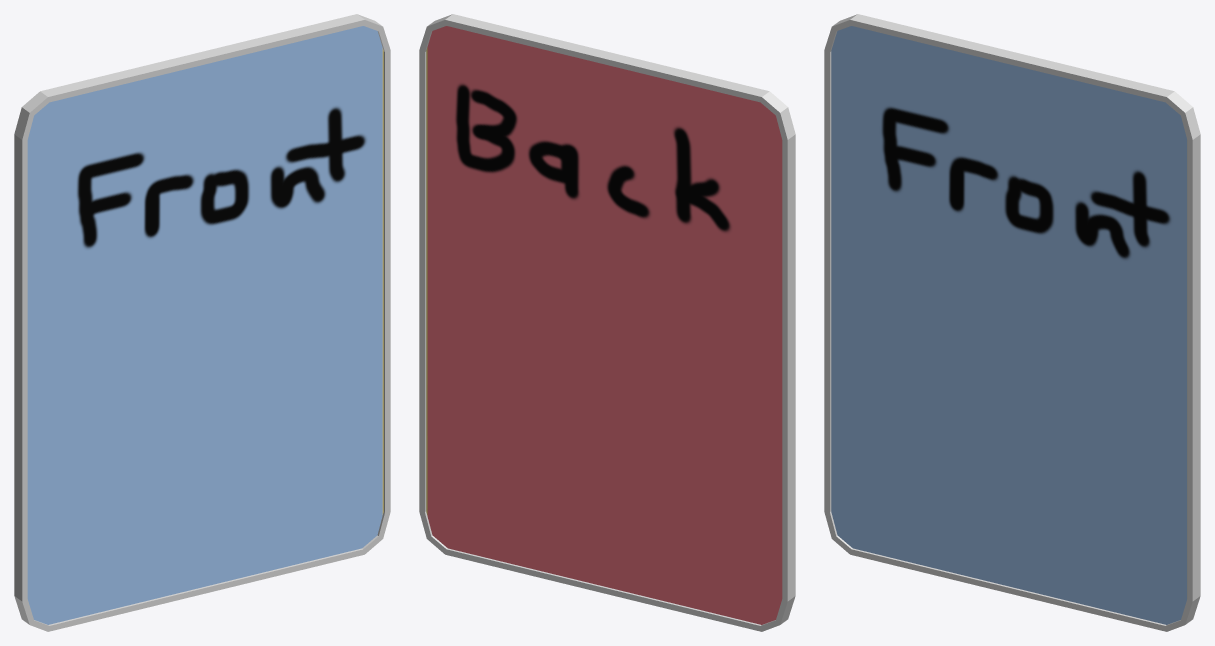
Rendered from card.glb.
3 renders of one model, left to right at view 1: azimuth 30°, elevation 25°; view 2: azimuth 150°, elevation 25°; view 3: azimuth 330°, elevation 25°, orthographic.
Visible parts, largest first — view 1: Card, Border; view 2: Card, Border; view 3: Card, Border.
Boxes of the visible parts, bbox=[...] form: Card: bbox=[27, 26, 383, 624]; Border: bbox=[14, 14, 390, 631]; Card: bbox=[426, 26, 782, 624]; Border: bbox=[419, 14, 795, 631]; Card: bbox=[831, 26, 1187, 624]; Border: bbox=[824, 14, 1200, 631].
Bounding box in the file's own units: 0.0655 × 0.0908 × 0.00245.
Materials: 1 (1 with a texture image).
